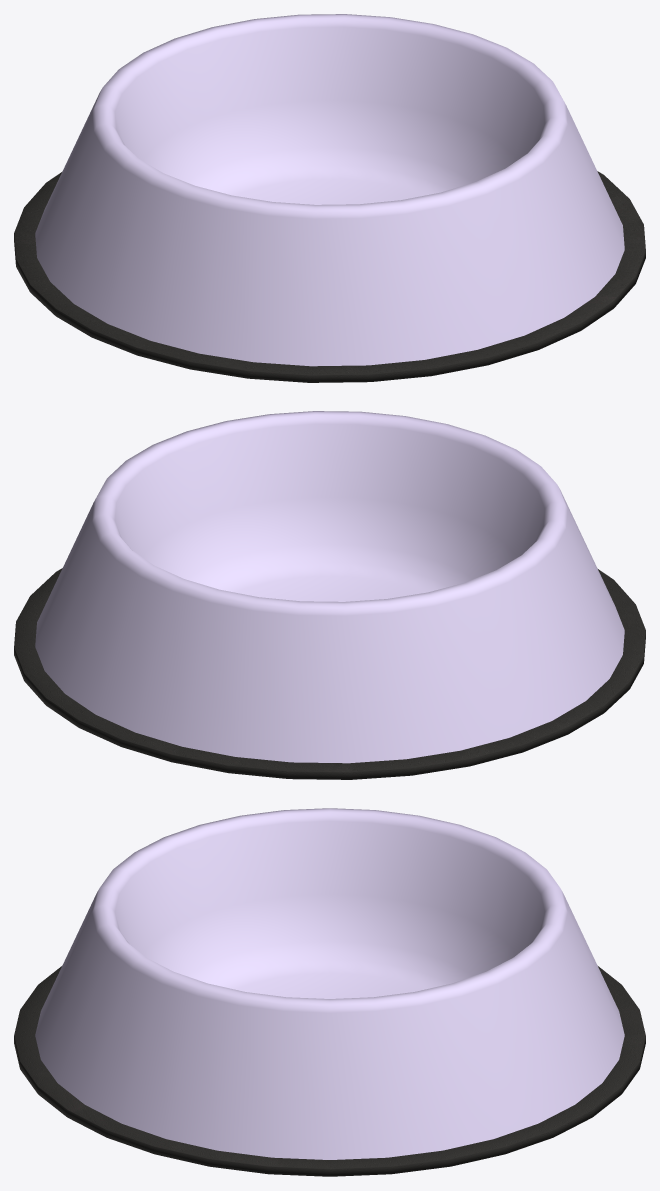
File: bowl1.glb
The picture shows the model from 3 angles, top to bottom: view 1: azimuth 30°, elevation 25°; view 2: azimuth 150°, elevation 25°; view 3: azimuth 270°, elevation 25°; orthographic projection.
Parts seen in each view (by area): view 1: pet-bowl; view 2: pet-bowl; view 3: pet-bowl.
Part boxes in pixels (x1,y1,x2,y2): pet-bowl: (14,14,645,382); pet-bowl: (14,411,645,779); pet-bowl: (14,808,645,1176).
Size of the model in its own units: 0.2688 by 0.0645 by 0.2688.
2 materials, 1 textured.
